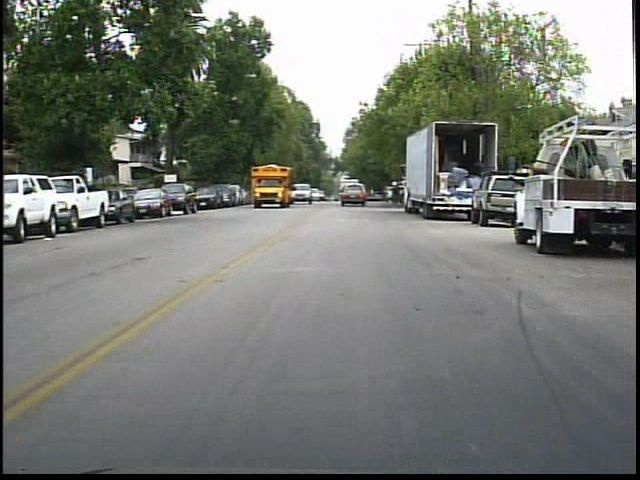person: (389, 178, 406, 211)
